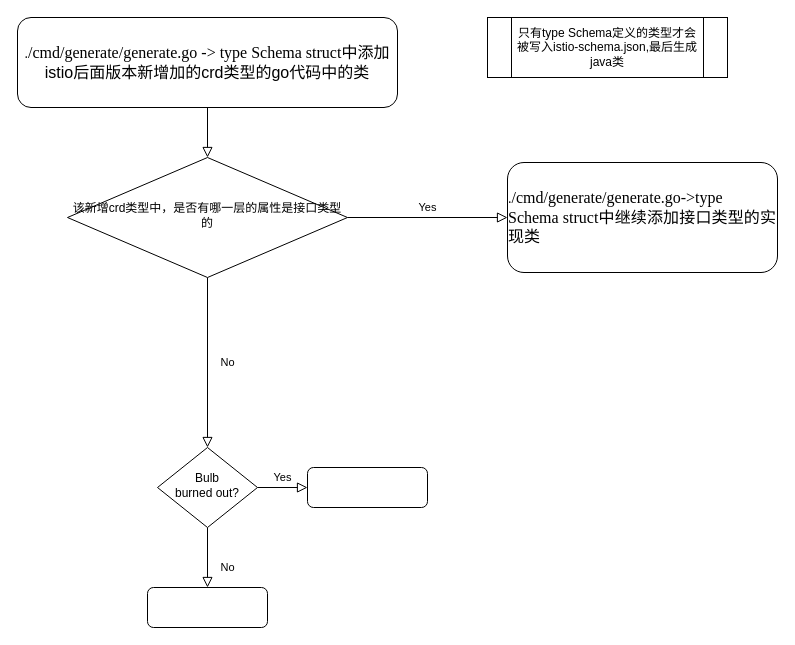
The diagram is 795 pixels wide and 645 high, and some of its shapes have lost their labels. Each missing label, with the box of its shape:
Repair Lamp: (146, 586, 268, 628)
Replace Bulb: (306, 466, 428, 508)
